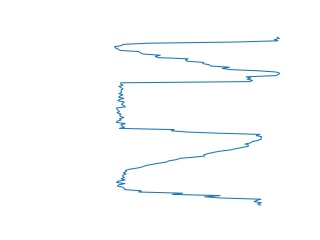distributaryChannelFill: (112, 72, 264, 142)
mouthBar: (110, 33, 284, 76)
underwaterDistributaryChannel: (113, 138, 267, 209)
